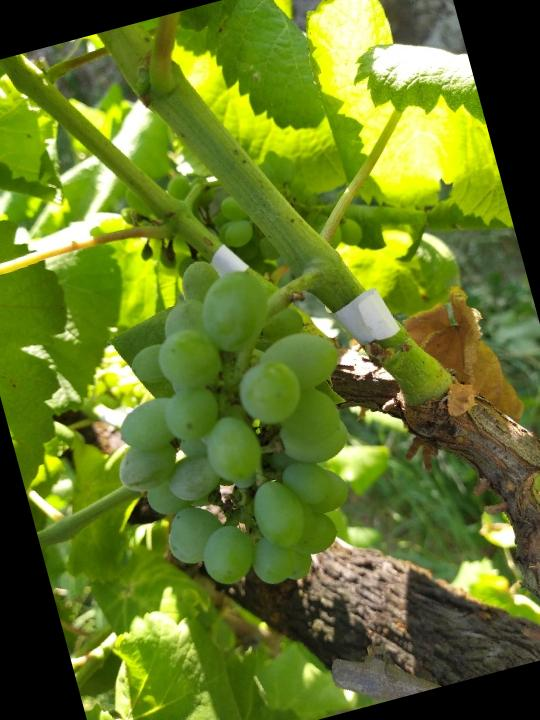grape: (68, 230, 398, 621)
